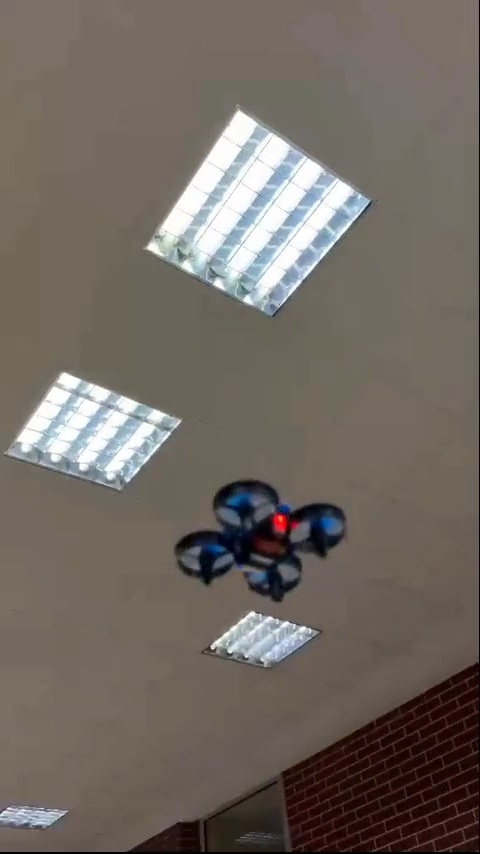drone: (179, 484, 346, 612)
